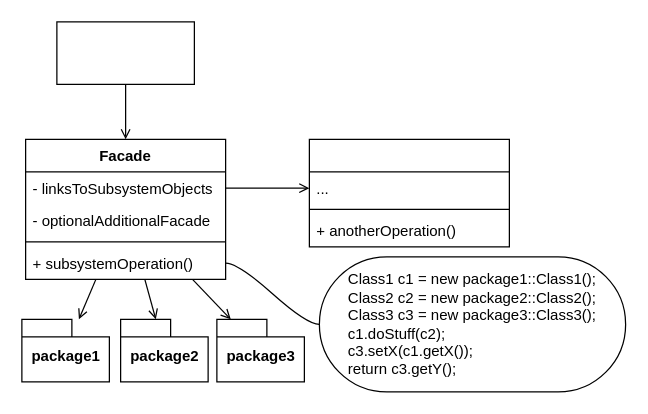
Some shapes in this 648 by 414 pixel diagram are drawn without their labels. The box of each missing label's shape, as (x1, y1, x2, y2) in pixels:
AdditionalFacade: (308, 138, 509, 247)
Client: (56, 21, 194, 84)
